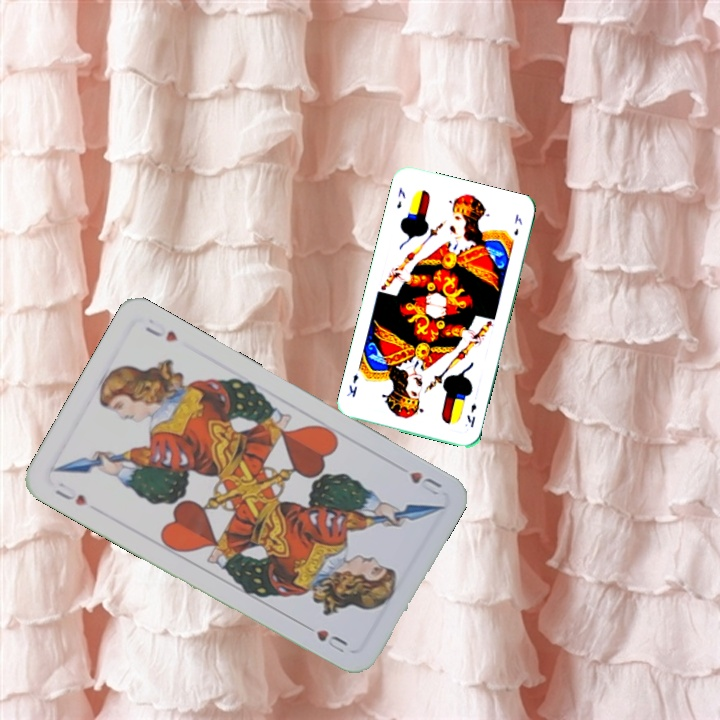EK: (463, 399, 479, 430), (393, 183, 408, 211)
HU: (406, 467, 445, 498), (51, 484, 91, 509)
